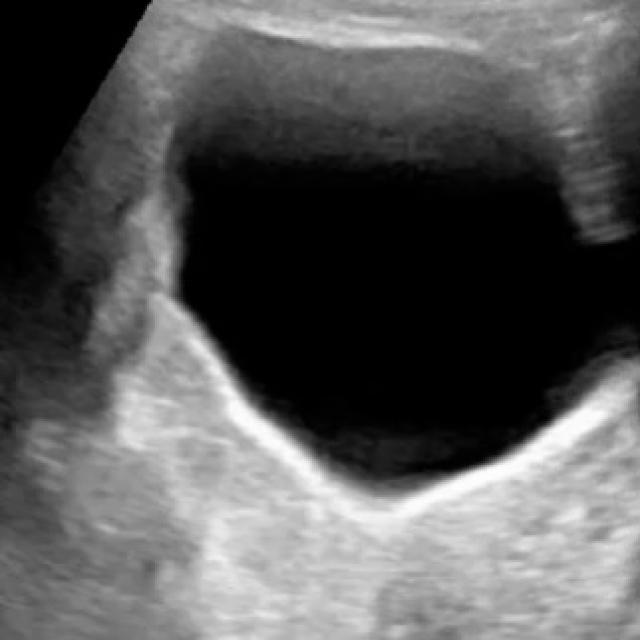bladder: (152, 16, 622, 534)
